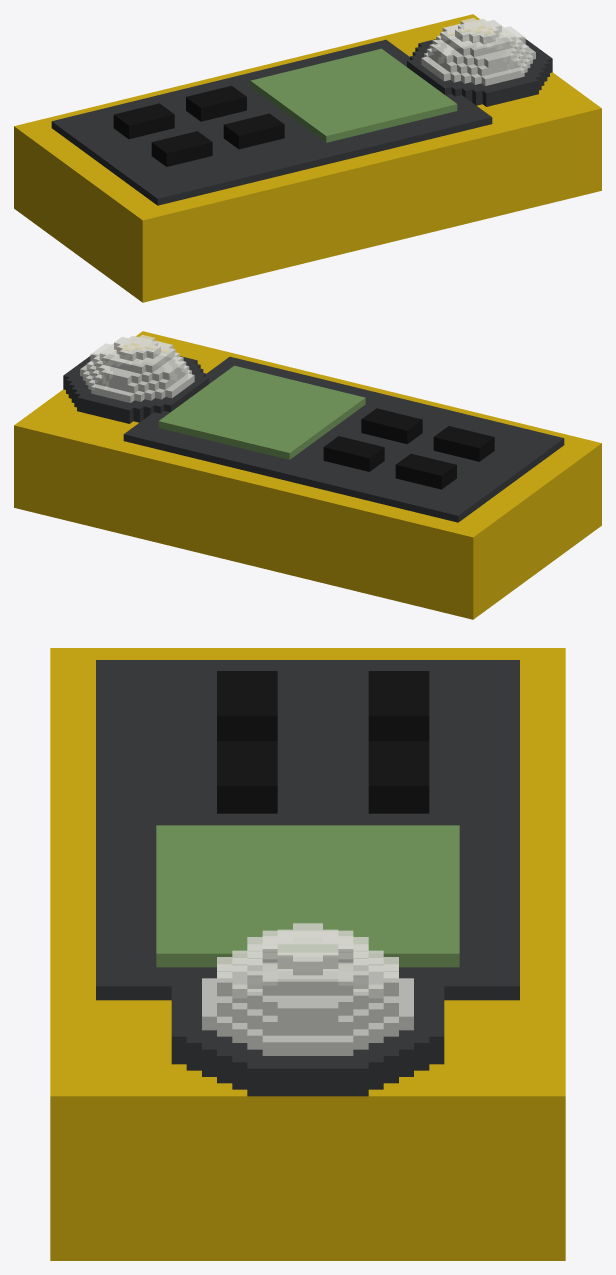
Rendered from lux_meter.glb.
3 renders of one model, top to bottom at view 1: azimuth 30°, elevation 25°; view 2: azimuth 150°, elevation 25°; view 3: azimuth 270°, elevation 25°, orthographic. The views are drawn at different scales.
Parts seen in each view (by area): view 1: lux_meter:compound; view 2: lux_meter:compound; view 3: lux_meter:compound.
Part boxes in pixels (bbox=[...]): lux_meter:compound: bbox=[14, 14, 601, 302]; lux_meter:compound: bbox=[14, 331, 601, 619]; lux_meter:compound: bbox=[50, 648, 565, 1260].
Size of the model in its own units: 0.14 by 0.038 by 0.068.
